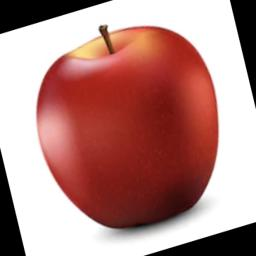Apple Fresh: (33, 0, 230, 240)
